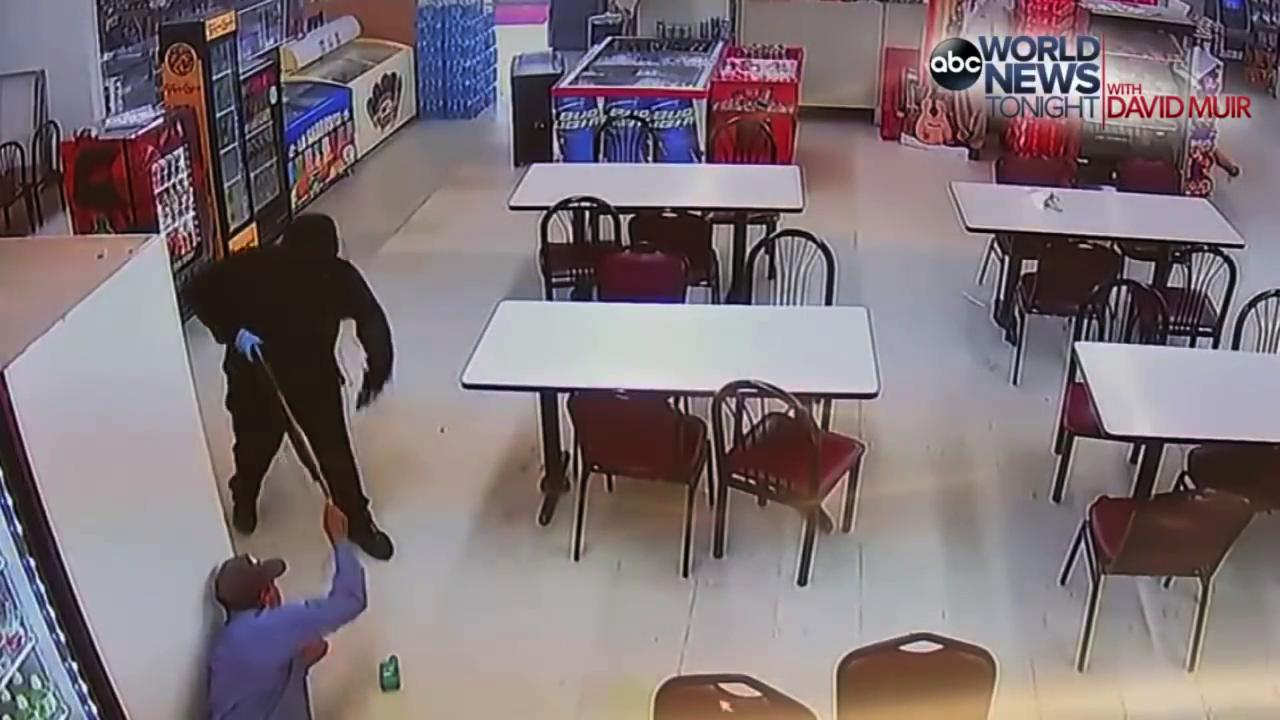gun: (240, 335, 338, 506)
